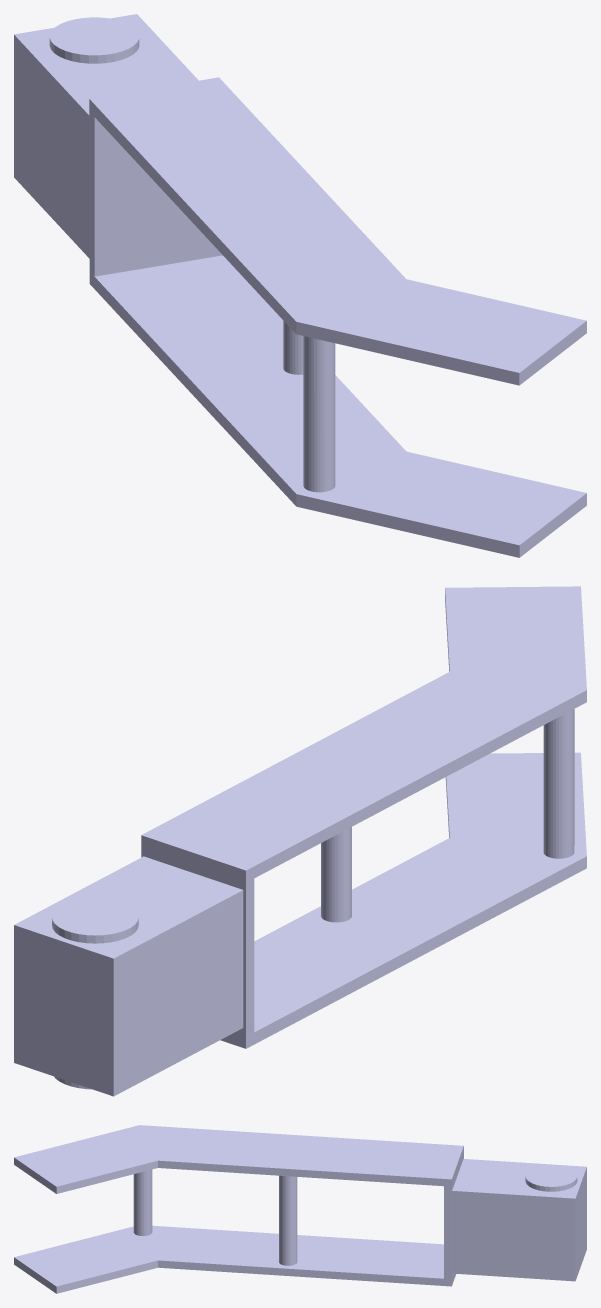
Rendered from dbAlpha_URDF_Leg_Abdomen_MidRight_Link2__80__.dae.
3 renders of one model, top to bottom at view 1: azimuth 30°, elevation 25°; view 2: azimuth 150°, elevation 25°; view 3: azimuth 270°, elevation 25°, orthographic. The views are drawn at different scales.
Parts seen in each view (by area): view 1: Node_0x7f7afcb58560 (×9); view 2: Node_0x7f7afcb58560 (×9); view 3: Node_0x7f7afcb58560 (×9).
Boxes of the visible parts, x1,y1,x2,y2 form: Node_0x7f7afcb58560 (×9): [14, 14, 586, 557]; Node_0x7f7afcb58560 (×9): [14, 586, 586, 1096]; Node_0x7f7afcb58560 (×9): [14, 1125, 586, 1293].
Bounding box in the file's own units: 0.0545 × 0.0441 × 0.2134.
